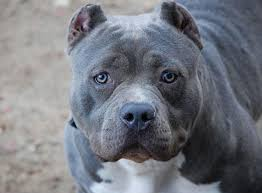Perro Pitbull: (47, 3, 241, 181)
